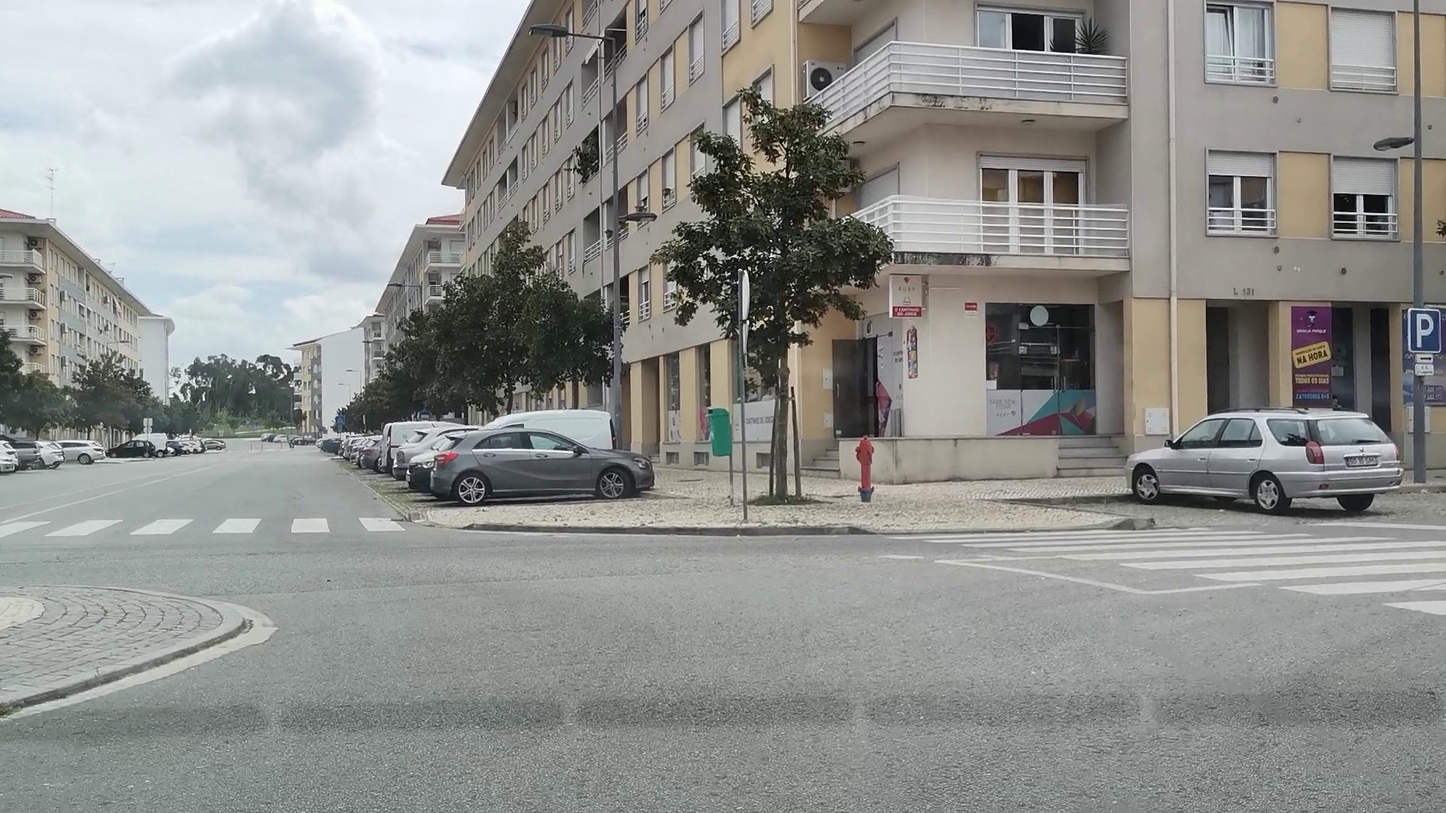Stairs: (923, 529, 1446, 624), (0, 514, 408, 538)
